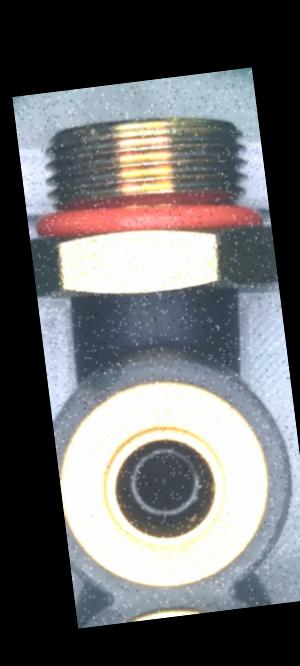bump: (75, 356, 127, 398)
joint line: (146, 291, 164, 346)
